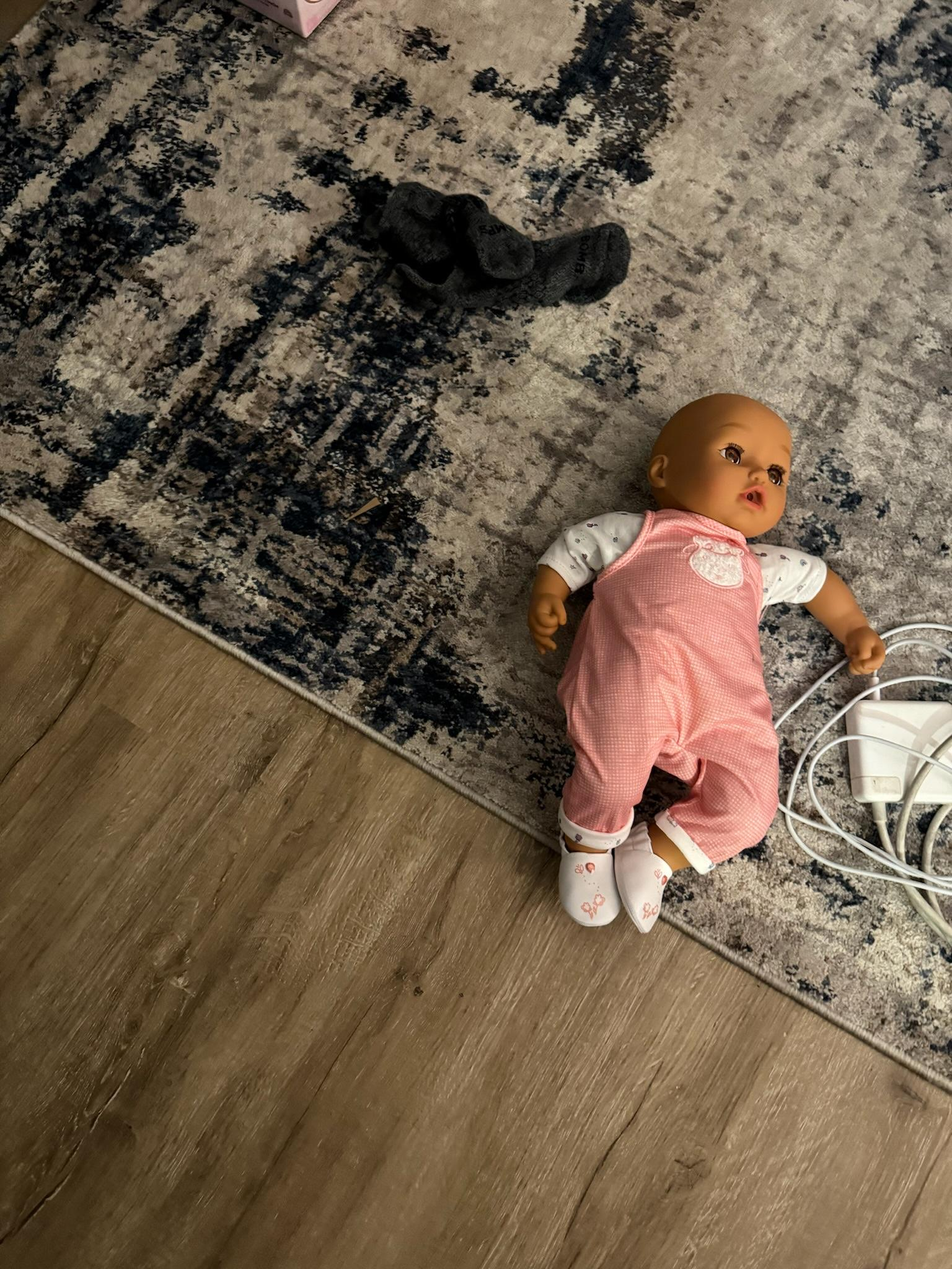baby: (521, 372, 808, 950)
